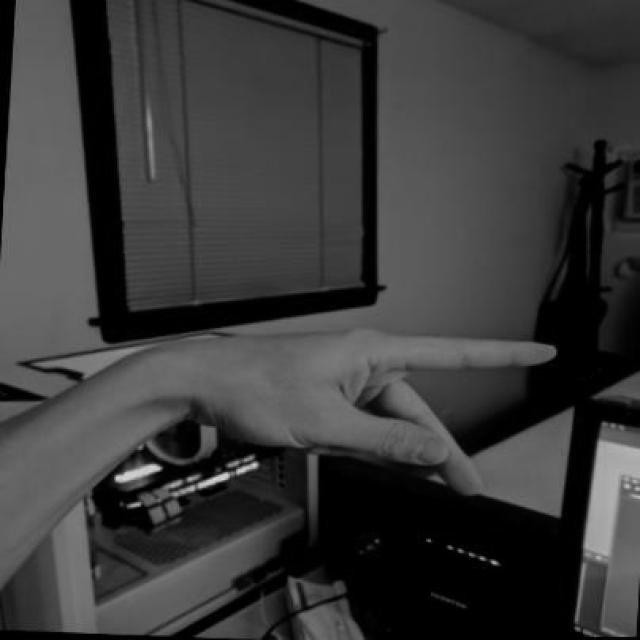P: (181, 312, 564, 510)
